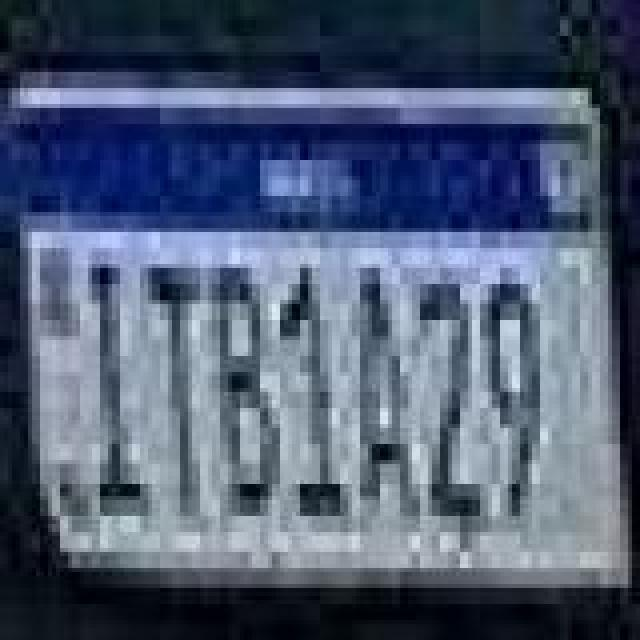1: (280, 258, 352, 526)
2: (412, 276, 484, 524)
9: (480, 276, 552, 524)
A: (348, 258, 420, 526)
B: (204, 258, 284, 526)
I: (84, 258, 156, 526)
T: (146, 258, 206, 526)
